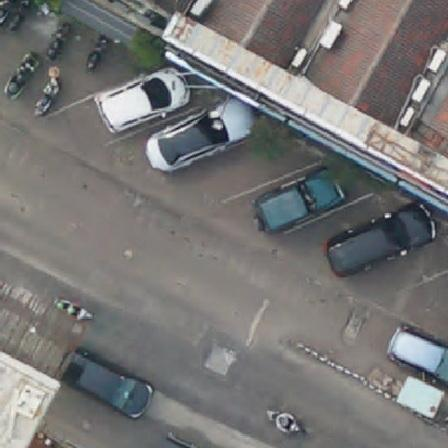Car: (144, 93, 260, 171), (334, 188, 438, 274), (247, 166, 347, 234), (60, 347, 155, 417), (88, 66, 193, 128), (383, 325, 448, 385)
Motorcycle: (4, 51, 37, 95), (262, 405, 306, 437), (47, 19, 72, 64), (50, 295, 90, 323), (84, 35, 114, 72), (34, 79, 63, 116), (0, 0, 32, 28)
